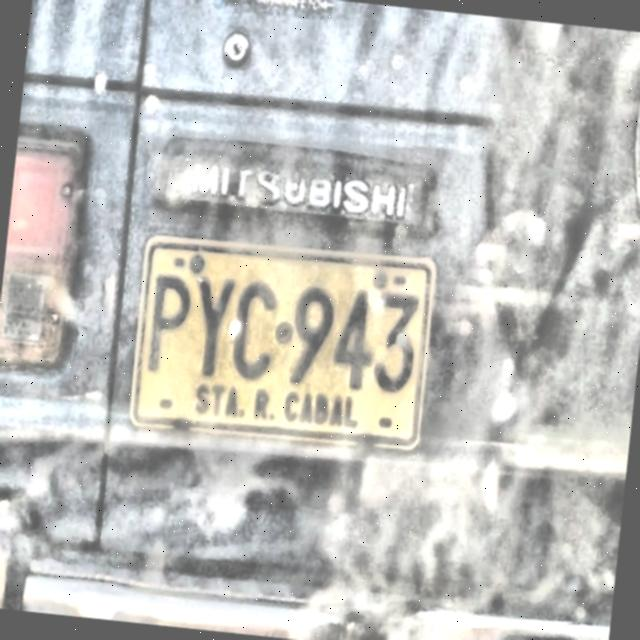plate: (129, 234, 435, 452)
